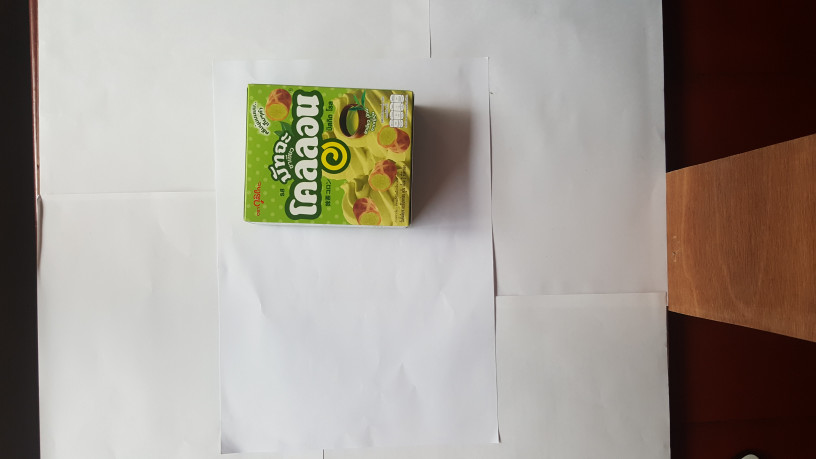collon-matcha: (239, 84, 415, 229)
